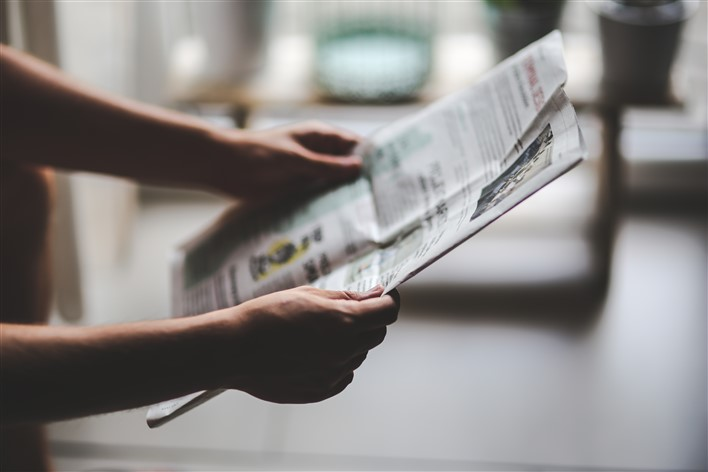news_paper: (102, 22, 614, 444)
